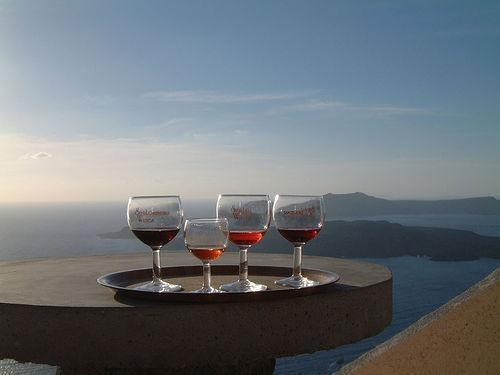glass-wine: (125, 191, 183, 294), (216, 190, 272, 293), (271, 191, 326, 289), (183, 215, 230, 295)
